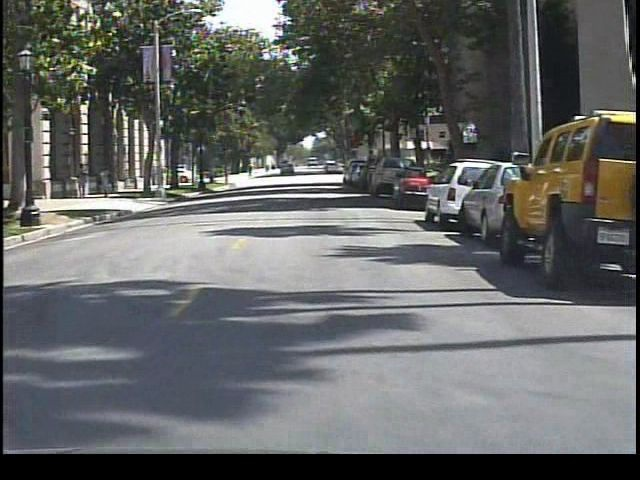person: (96, 162, 119, 199), (73, 161, 93, 202)
